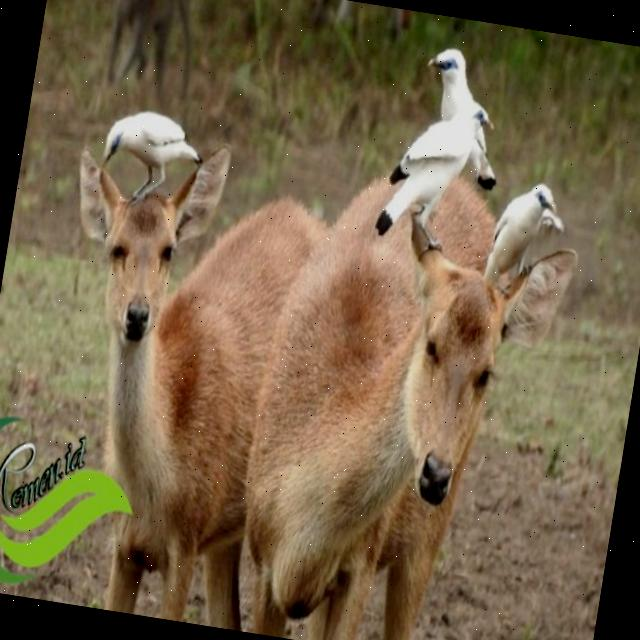Jalak Bali: (372, 84, 503, 264), (403, 27, 522, 197), (78, 90, 222, 225), (474, 154, 576, 312)
